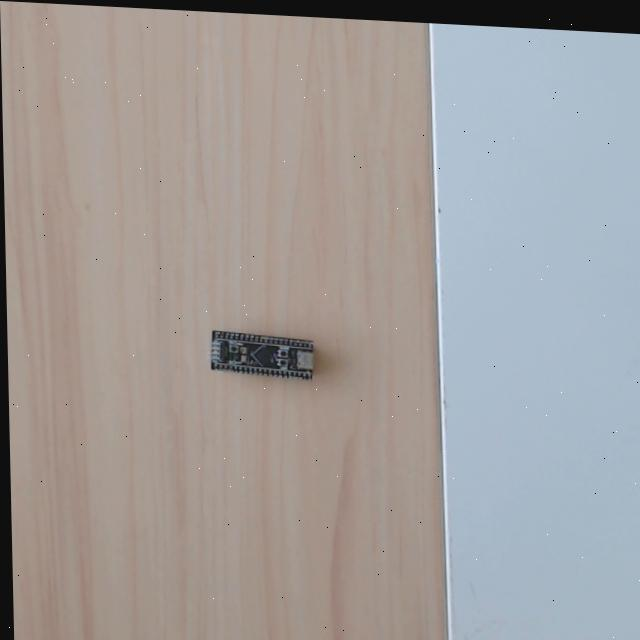STM32-Blackpill: (206, 328, 316, 380)
